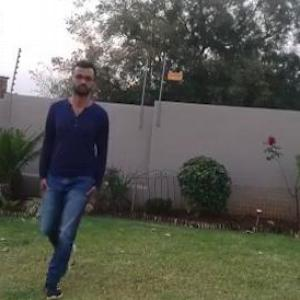follow: (50, 46, 142, 299)
